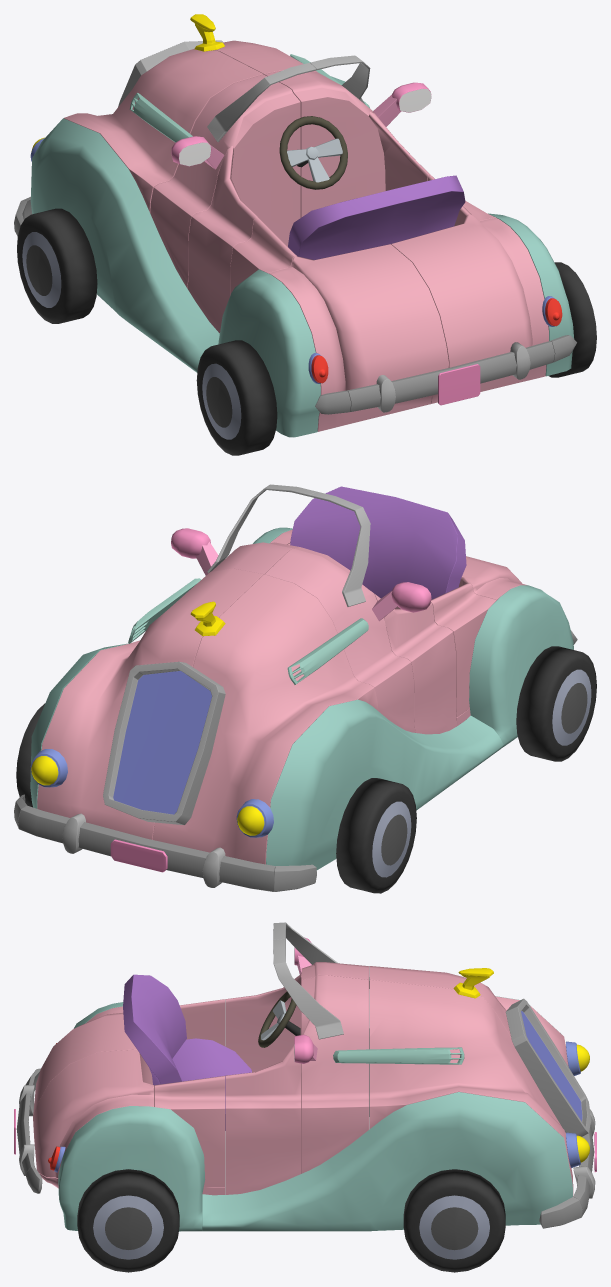
Rendered from Level_P_24.fbx.
The picture shows the model from 3 angles, top to bottom: view 1: azimuth 30°, elevation 25°; view 2: azimuth 150°, elevation 25°; view 3: azimuth 270°, elevation 25°; orthographic projection. The views are drawn at different scales.
Visible parts, largest first — view 1: Luxury_Car_4, Luxury_Car_10, Luxury_Car_23, Luxury_Car_24, Luxury_Car_11, Luxury_Car_3, Luxury_Car_14, Luxury_Car_42, Luxury_Car_1, Luxury_Car_2, Luxury_Car_9, Luxury_Car_17 (+16 smaller); view 2: Luxury_Car_11, Luxury_Car_4, Luxury_Car_22, Luxury_Car_20, Luxury_Car_14, Luxury_Car_3, Luxury_Car_24, Luxury_Car_16, Luxury_Car_1, Luxury_Car_2, Luxury_Car_9, Luxury_Car_7 (+14 smaller); view 3: Luxury_Car_29, Luxury_Car_22, Luxury_Car_30, Luxury_Car_42, Luxury_Car_41, Luxury_Car_32, Luxury_Car_31, Luxury_Car_23, Luxury_Car_20, Luxury_Car_14, Luxury_Car_26, Luxury_Car_9 (+16 smaller).
Part boxes in pixels (left/top/right/bottom): Luxury_Car_4: left=30, top=118, right=219, bottom=372; Luxury_Car_10: left=269, top=244, right=448, bottom=394; Luxury_Car_23: left=391, top=214, right=548, bottom=367; Luxury_Car_24: left=150, top=74, right=300, bottom=288; Luxury_Car_11: left=64, top=48, right=263, bottom=212; Luxury_Car_3: left=218, top=269, right=320, bottom=437; Luxury_Car_14: left=288, top=175, right=465, bottom=259; Luxury_Car_42: left=264, top=71, right=385, bottom=217; Luxury_Car_1: left=196, top=340, right=277, bottom=455; Luxury_Car_2: left=17, top=208, right=97, bottom=323; Luxury_Car_9: left=187, top=146, right=257, bottom=333; Luxury_Car_17: left=346, top=341, right=554, bottom=412; Luxury_Car_11: left=152, top=574, right=377, bottom=864; Luxury_Car_4: left=266, top=699, right=503, bottom=870; Luxury_Car_22: left=37, top=568, right=263, bottom=839; Luxury_Car_20: left=103, top=661, right=225, bottom=825; Luxury_Car_14: left=290, top=486, right=466, bottom=599; Luxury_Car_3: left=469, top=585, right=573, bottom=748; Luxury_Car_24: left=265, top=547, right=415, bottom=732; Luxury_Car_16: left=18, top=805, right=274, bottom=891; Luxury_Car_1: left=516, top=646, right=596, bottom=761; Luxury_Car_2: left=336, top=778, right=416, bottom=893; Luxury_Car_9: left=371, top=591, right=457, bottom=734; Luxury_Car_7: left=431, top=583, right=496, bottom=717; Luxury_Car_29: left=202, top=1092, right=572, bottom=1231; Luxury_Car_22: left=369, top=980, right=573, bottom=1196; Luxury_Car_30: left=58, top=1106, right=205, bottom=1231; Luxury_Car_42: left=301, top=975, right=368, bottom=1173; Luxury_Car_41: left=225, top=1045, right=301, bottom=1194; Luxury_Car_32: left=77, top=1169, right=179, bottom=1272; Luxury_Car_31: left=403, top=1169, right=505, bottom=1272; Luxury_Car_23: left=33, top=1049, right=154, bottom=1178; Luxury_Car_20: left=505, top=998, right=591, bottom=1136; Luxury_Car_14: left=123, top=974, right=186, bottom=1085; Luxury_Car_26: left=154, top=1076, right=225, bottom=1187; Luxury_Car_9: left=225, top=974, right=301, bottom=1072.
Size of the model in its own units: 486 by 368 by 754.
